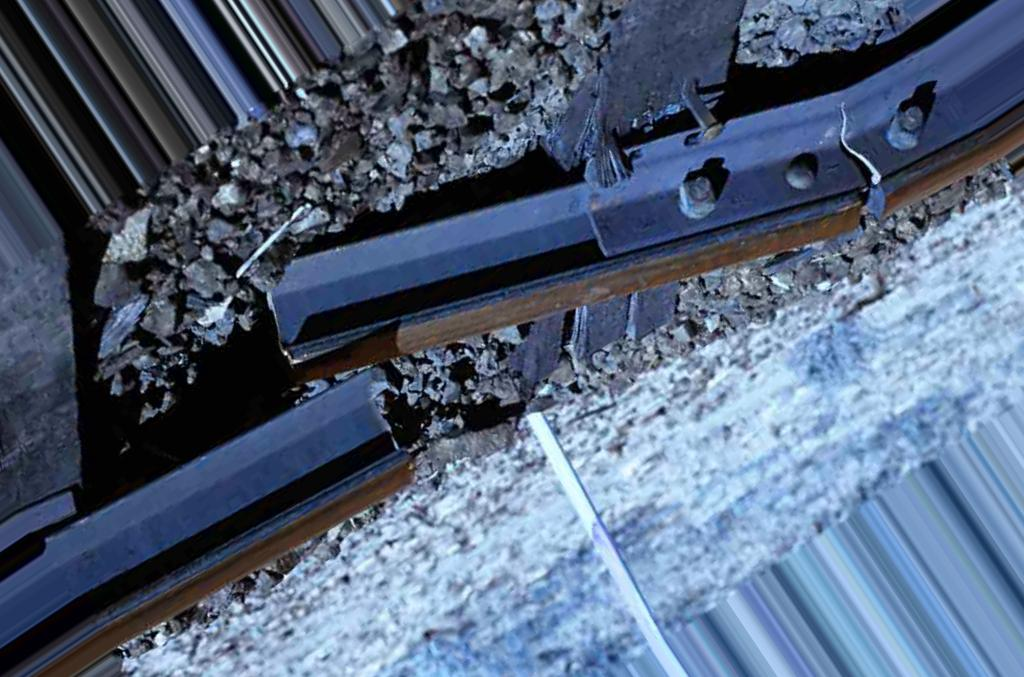tracks_fault: (272, 237, 458, 498)
